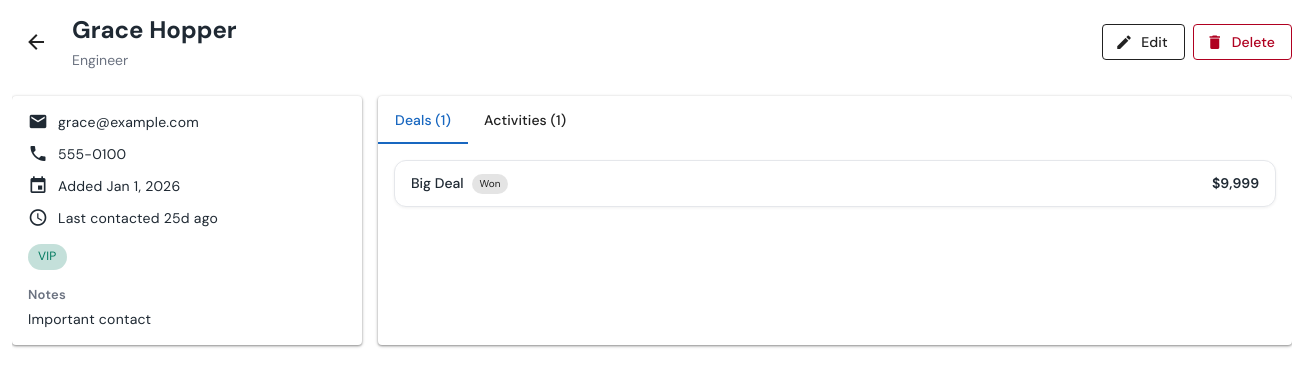
Test case: ContactDetailPage › renders the deals tab with deal items and the activities tab with activity items
The width and height of the screenshot is (1304, 365).
Expected: the text "Big Deal" is shown, [411,173,464,194]
Note: Click the Activities tab to render its content.
Step 1. Click the tab "Activities (1)" → x=525, y=120, box [468,96,582,144]
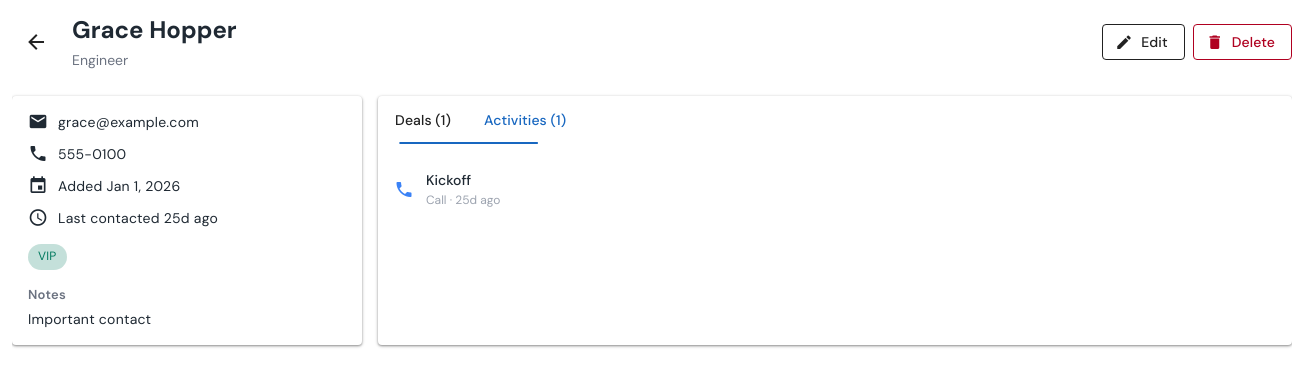
Expected: the text "Kickoff" is shown, [426,171,471,189]
